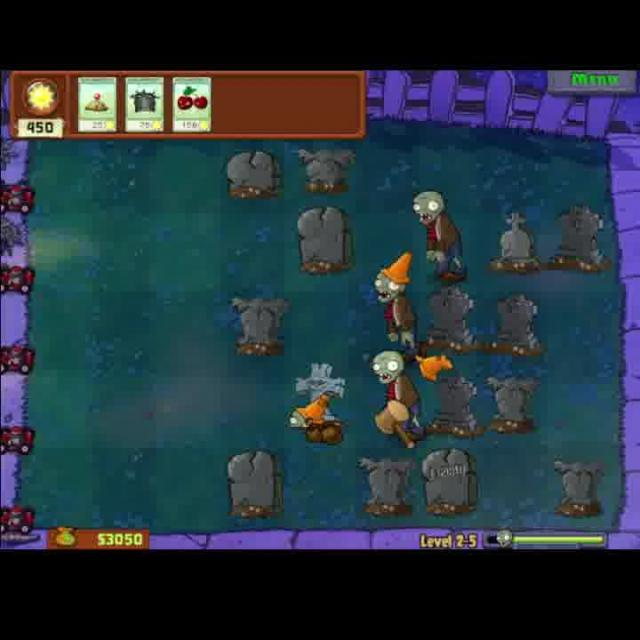coins: (366, 247, 433, 363), (408, 187, 469, 287), (369, 348, 427, 444), (282, 386, 338, 436)
